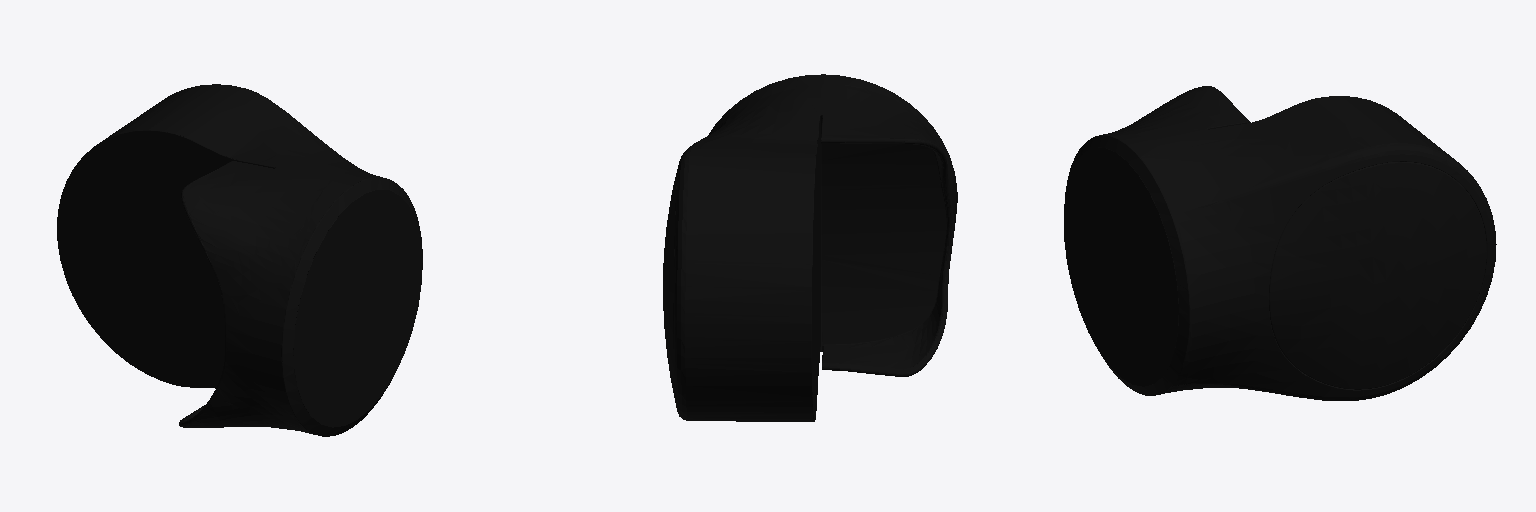
The model's file is arm_2.obj.
3 views of the same model, side by side, from view 1: azimuth 30°, elevation 25°; view 2: azimuth 150°, elevation 25°; view 3: azimuth 270°, elevation 25° (orthographic).
Parts seen in each view (by area): view 1: arm_2; view 2: arm_2; view 3: arm_2.
Boxes of the visible parts, x1,y1,x2,y2 form: arm_2: [57, 84, 422, 436]; arm_2: [663, 74, 957, 421]; arm_2: [1064, 86, 1496, 400].
Bounding box in the file's own units: 0.1052 × 0.1041 × 0.1624.